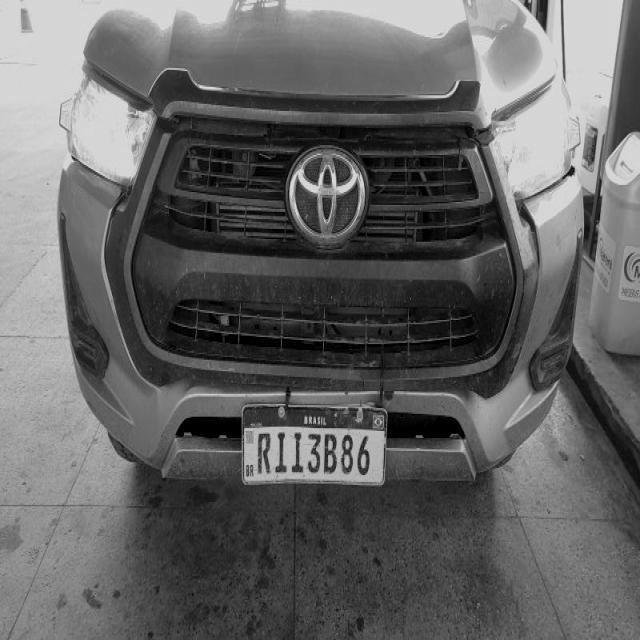placa_mercosul: (242, 405, 388, 487)
